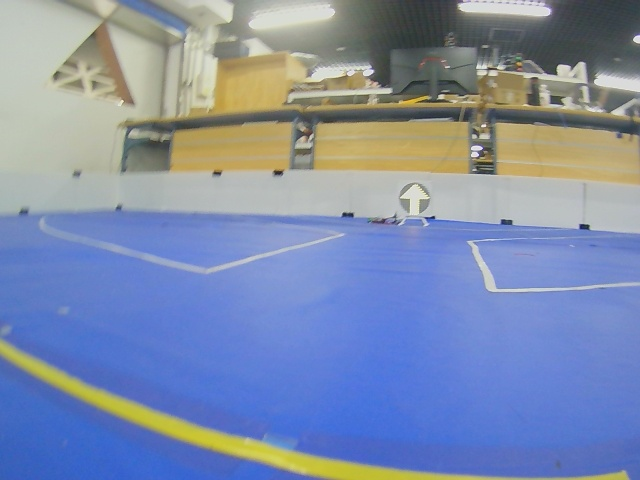straight_yellow: (399, 182, 431, 216)
